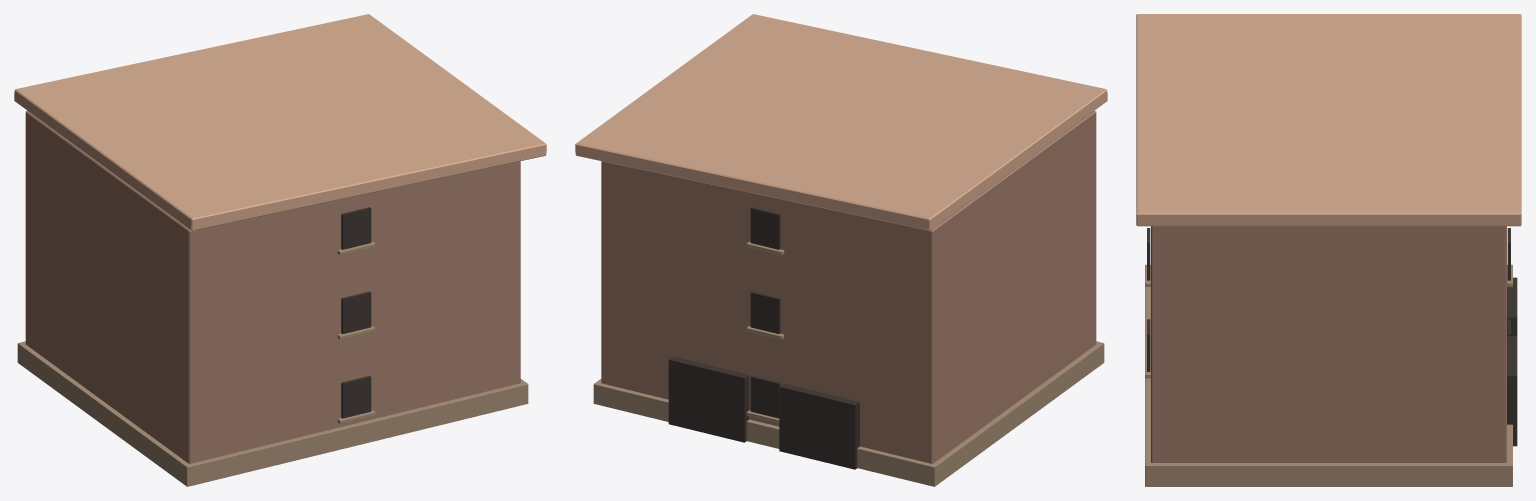
File: fabric_c.glb
The picture shows the model from 3 angles, left to right: view 1: azimuth 30°, elevation 25°; view 2: azimuth 150°, elevation 25°; view 3: azimuth 270°, elevation 25°; orthographic projection. The views are drawn at different scales.
Visible parts, largest first — view 1: body, roof, merged_wood, merged_dark; view 2: body, roof, merged_dark, merged_wood; view 3: body, roof, merged_wood, merged_dark.
Part boxes in pixels (x1,y1,x2,y2): body: [25, 110, 520, 463]; roof: [14, 14, 546, 230]; merged_wood: [17, 241, 528, 486]; merged_dark: [341, 207, 371, 418]; body: [601, 110, 1096, 463]; roof: [575, 14, 1107, 230]; merged_dark: [668, 207, 859, 469]; merged_wood: [593, 241, 1104, 486]; body: [1151, 226, 1506, 462]; roof: [1136, 14, 1521, 226]; merged_wood: [1145, 264, 1512, 486]; merged_dark: [1147, 228, 1517, 446].
Bounding box in the file's own units: 15.02 × 10.92 × 13.
